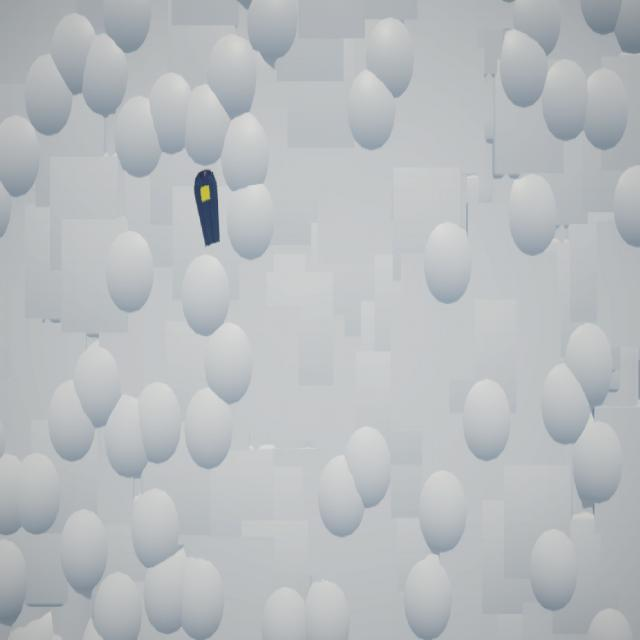handle_folk: (194, 171, 221, 249)
